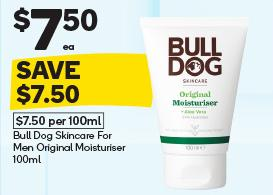description_block: (7, 128, 130, 173)
price_main: (5, 1, 106, 54)
product_image_block: (129, 14, 254, 190)
promo_text_block: (1, 54, 146, 110)
unit_price_block: (12, 112, 107, 130)
